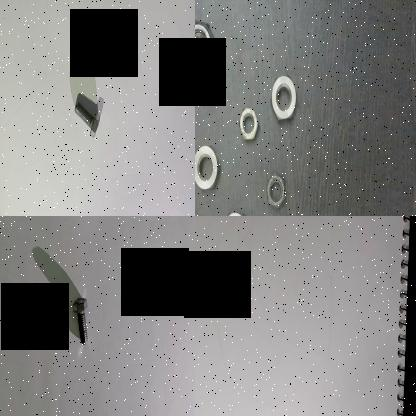Bolts: (71, 97, 105, 142), (71, 297, 95, 346)
NUTS: (268, 76, 300, 127), (195, 15, 217, 87), (195, 145, 224, 197), (238, 101, 262, 147), (265, 168, 286, 210), (219, 204, 249, 216)
